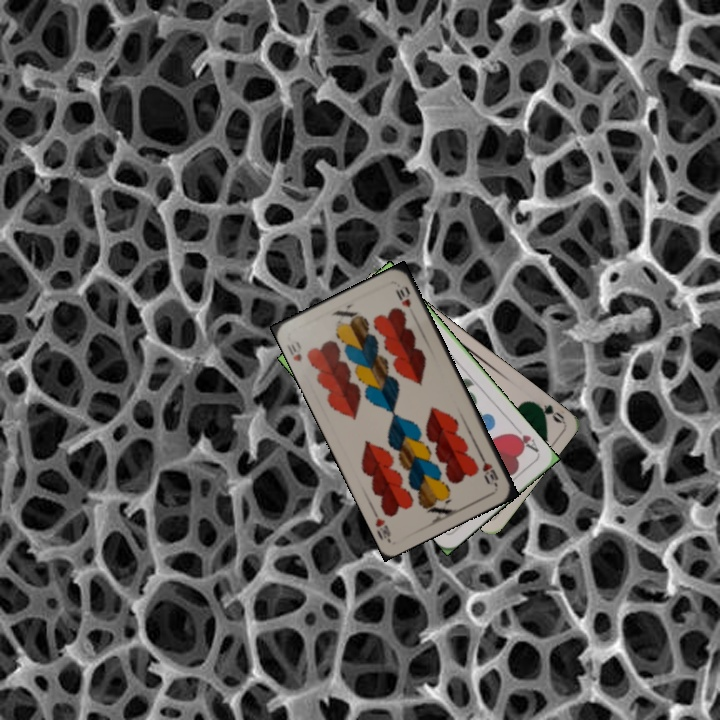GO: (529, 397, 567, 426)
H10: (476, 450, 501, 488), (283, 337, 305, 364)
HA: (507, 422, 542, 456)
